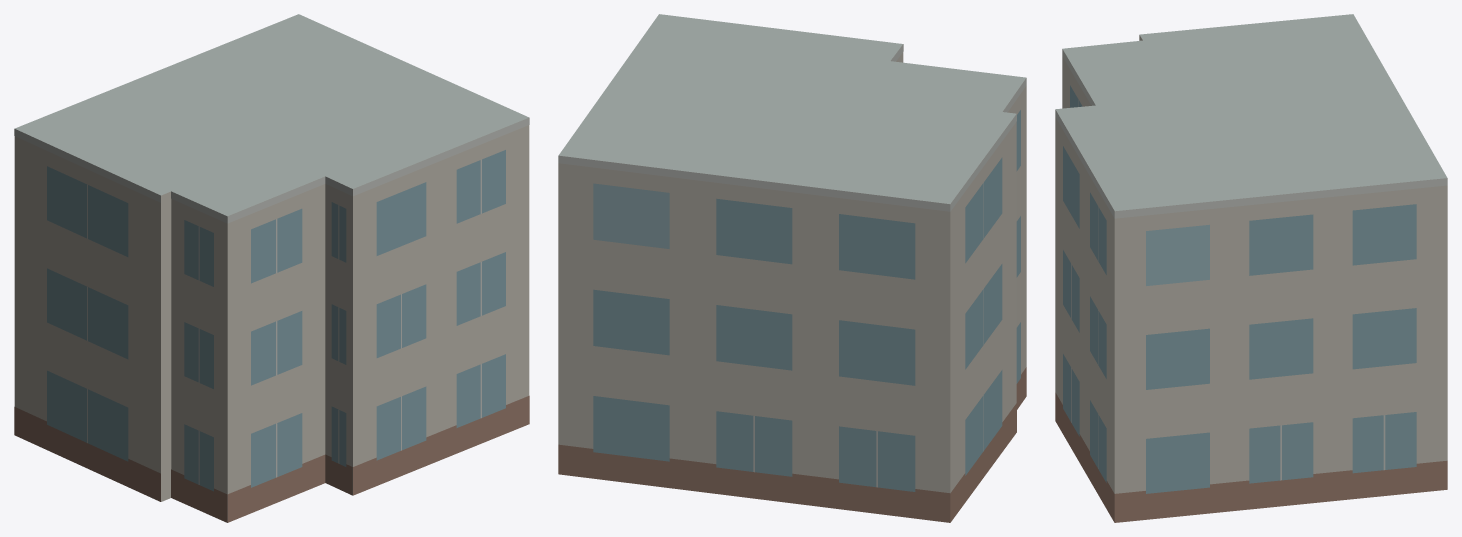
Rendered from survey-upis-32658640.glb.
3 views of the same model, side by side, from view 1: azimuth 30°, elevation 25°; view 2: azimuth 150°, elevation 25°; view 3: azimuth 270°, elevation 25° (orthographic). The views are drawn at different scales.
Visible parts, largest first — view 1: survey-upis-32658640.tmp; view 2: survey-upis-32658640.tmp; view 3: survey-upis-32658640.tmp.
Boxes of the visible parts, bbox=[...] form: survey-upis-32658640.tmp: bbox=[14, 14, 529, 522]; survey-upis-32658640.tmp: bbox=[558, 14, 1026, 522]; survey-upis-32658640.tmp: bbox=[1055, 14, 1447, 522].
Size of the model in its own units: 13.85 by 10.2 by 11.65.
